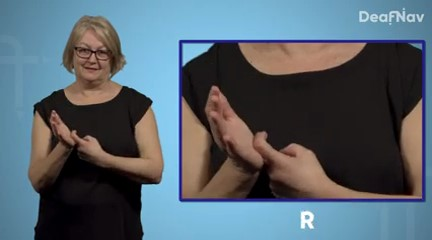R: (205, 83, 334, 194), (46, 107, 109, 167)
